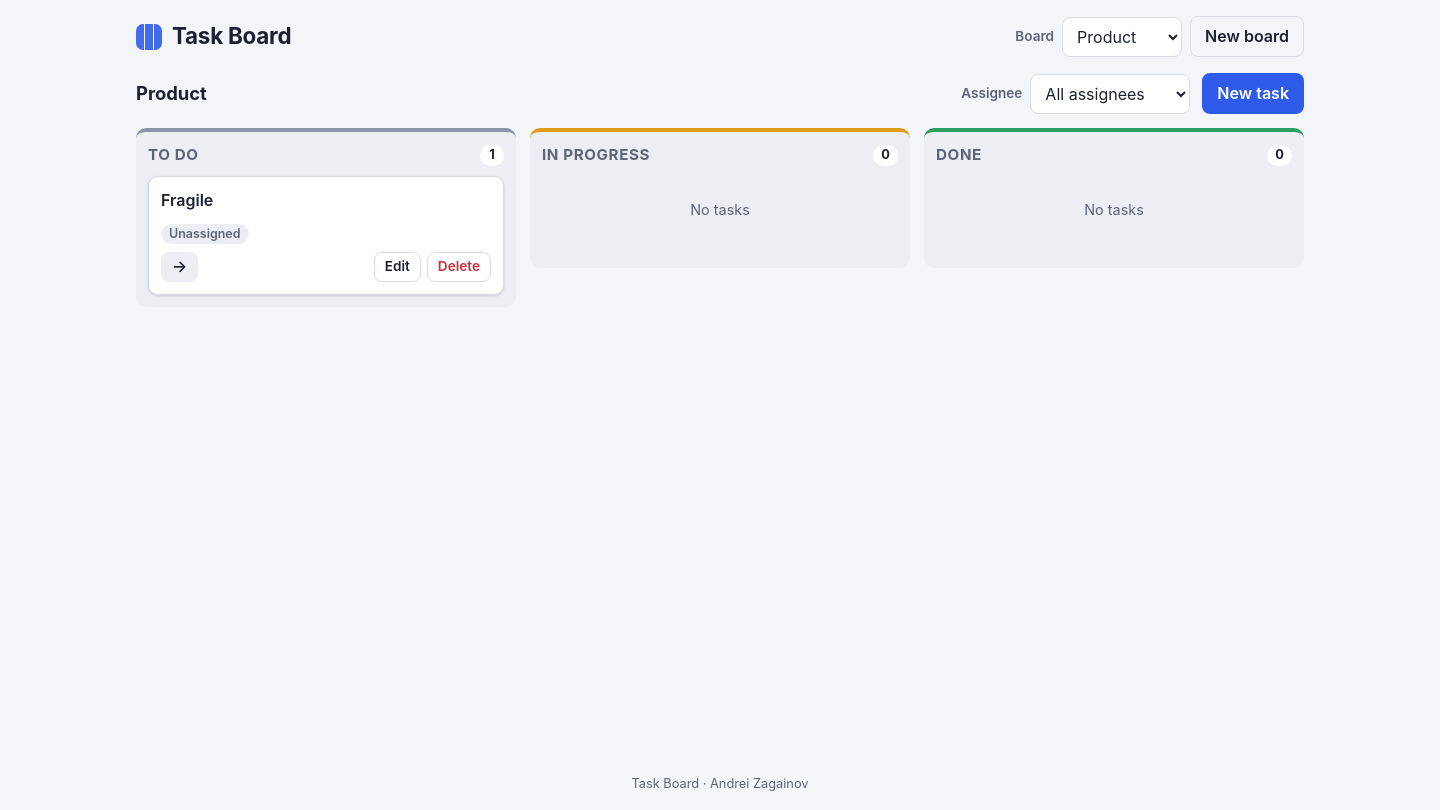
Test: App › shows an error banner when an action fails
Click the button named "Move \"Fragile\" to In progress": (180, 267) [161,252,198,282]
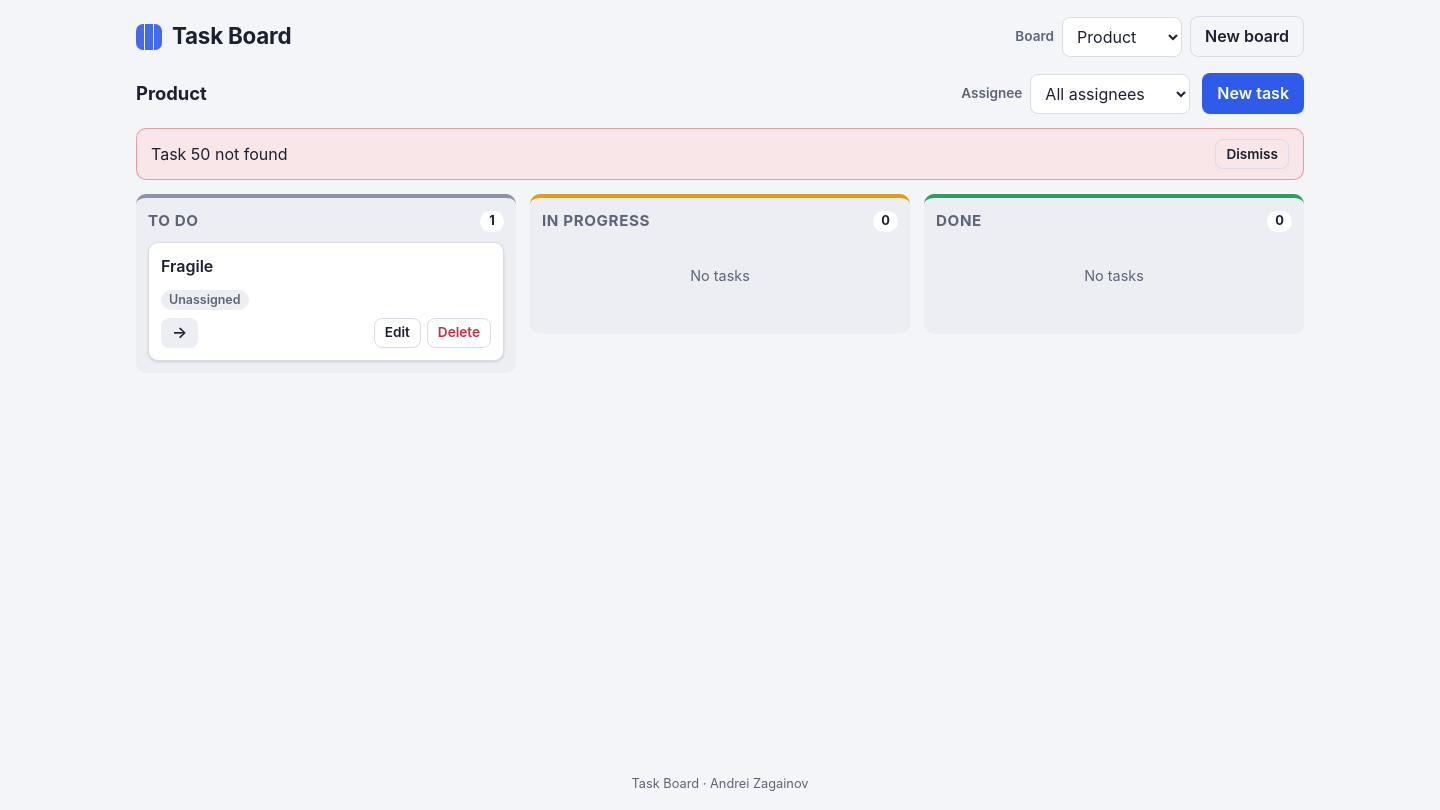
expect the message with test id "error-banner" shows "Task 50 not found": met, box [151,144,288,164]
